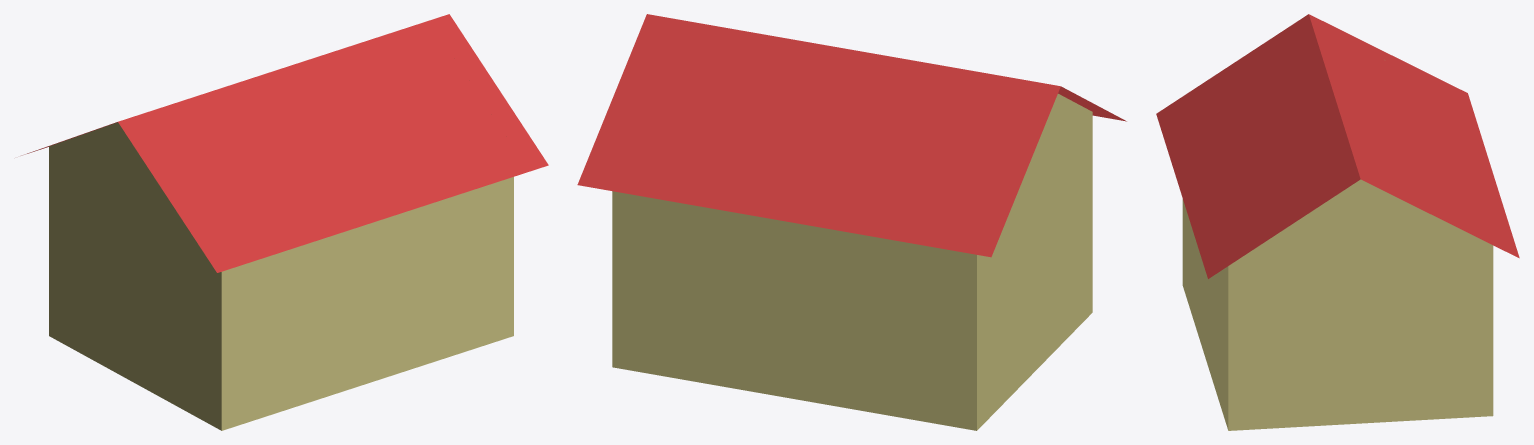
The picture shows the model from 3 angles, left to right: view 1: azimuth 30°, elevation 25°; view 2: azimuth 150°, elevation 25°; view 3: azimuth 270°, elevation 25°; orthographic projection. The views are drawn at different scales.
Size of the model in its own units: 13.78 by 11.58 by 8.93.
